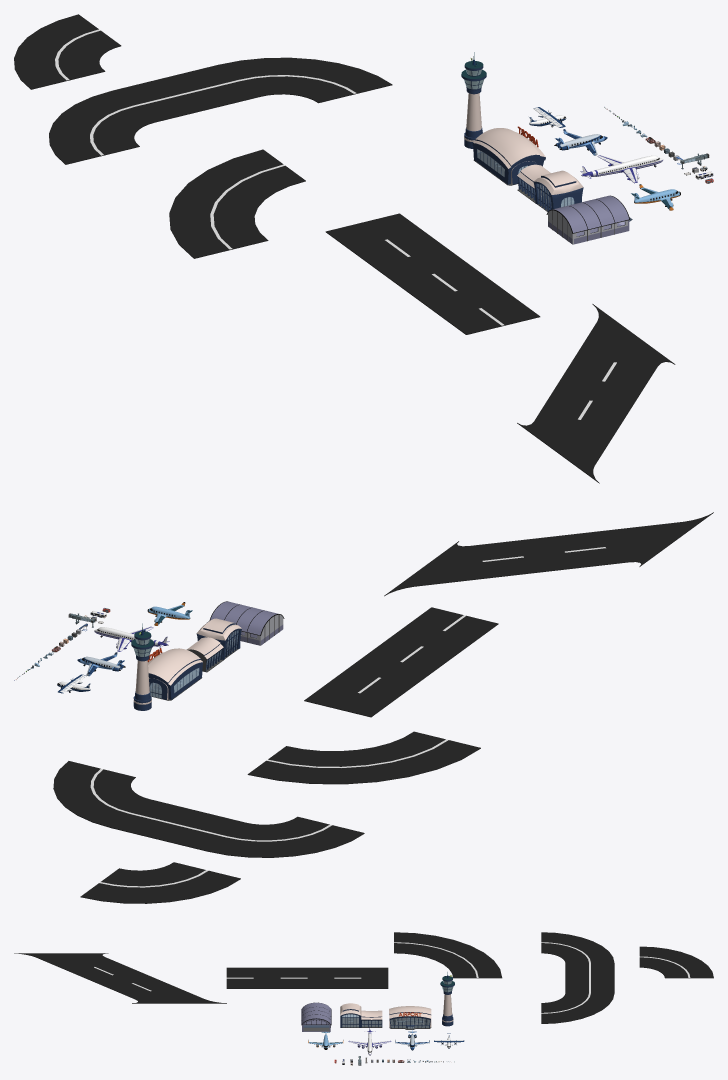
The model's file is airport_pack_total.glb.
3 renders of one model, top to bottom at view 1: azimuth 30°, elevation 25°; view 2: azimuth 150°, elevation 25°; view 3: azimuth 270°, elevation 25°, orthographic. The views are drawn at different scales.
Visible parts, largest first — view 1: LandingTrack2Curve, LandingTrack5StraightAngled, LandingTrack1Straight, LandingTrack3Curve2, LandingTrack4Curve3, 04.Hangar, 07.Modulo1, 07.Modulo2, 02.ControlTower, 18.2.Airplane; view 2: LandingTrack2Curve, LandingTrack5StraightAngled, LandingTrack1Straight, LandingTrack3Curve2, LandingTrack4Curve3, 07.Modulo1, 04.Hangar, 07.Modulo2, 02.ControlTower, 18.2.Airplane; view 3: LandingTrack2Curve, LandingTrack5StraightAngled, LandingTrack1Straight, LandingTrack3Curve2, LandingTrack4Curve3, 07.Modulo1, 07.Modulo2, 04.Hangar, 02.ControlTower, 18.2.Airplane.
Boxes of the visible parts, left/top/right/bottom form: LandingTrack2Curve: left=49, top=57, right=392, bottom=164; LandingTrack5StraightAngled: left=517, top=304, right=675, bottom=483; LandingTrack1Straight: left=325, top=213, right=540, bottom=334; LandingTrack3Curve2: left=169, top=149, right=305, bottom=258; LandingTrack4Curve3: left=14, top=14, right=121, bottom=89; 04.Hangar: left=546, top=195, right=632, bottom=244; 07.Modulo1: left=472, top=126, right=545, bottom=185; 07.Modulo2: left=517, top=164, right=583, bottom=211; 02.ControlTower: left=461, top=52, right=486, bottom=148; 18.2.Airplane: left=580, top=155, right=662, bottom=183; LandingTrack2Curve: left=53, top=761, right=364, bottom=857; LandingTrack5StraightAngled: left=384, top=512, right=713, bottom=596; LandingTrack1Straight: left=304, top=607, right=498, bottom=717; LandingTrack3Curve2: left=247, top=731, right=480, bottom=784; LandingTrack4Curve3: left=80, top=862, right=240, bottom=903; 07.Modulo1: left=147, top=648, right=202, bottom=700; 04.Hangar: left=207, top=601, right=284, bottom=645; 07.Modulo2: left=186, top=618, right=241, bottom=672; 02.ControlTower: left=131, top=623, right=154, bottom=710; 18.2.Airplane: left=94, top=626, right=169, bottom=651; LandingTrack2Curve: left=541, top=932, right=614, bottom=1023; LandingTrack5StraightAngled: left=14, top=953, right=226, bottom=1003; LandingTrack1Straight: left=226, top=967, right=388, bottom=988; LandingTrack3Curve2: left=394, top=932, right=502, bottom=978; LandingTrack4Curve3: left=639, top=946, right=713, bottom=978; 07.Modulo1: left=389, top=1006, right=431, bottom=1029; 07.Modulo2: left=340, top=1003, right=382, bottom=1027; 04.Hangar: left=301, top=1002, right=331, bottom=1031; 02.ControlTower: left=440, top=972, right=454, bottom=1026; 18.2.Airplane: left=348, top=1026, right=391, bottom=1055.
Size of what is drawn, in the model's own units: 535 by 101 by 1168.
Materials: 1 (1 with a texture image).
